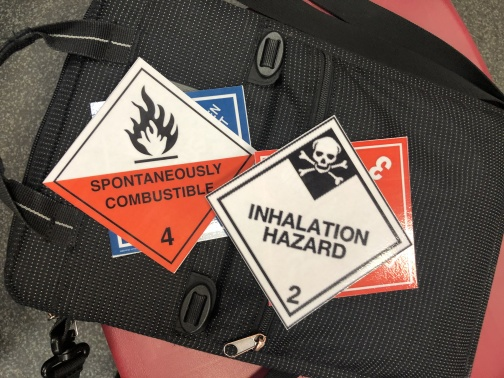InhalationHazard: (207, 118, 414, 326)
SpontaneouslyCombustible: (42, 58, 255, 274)
